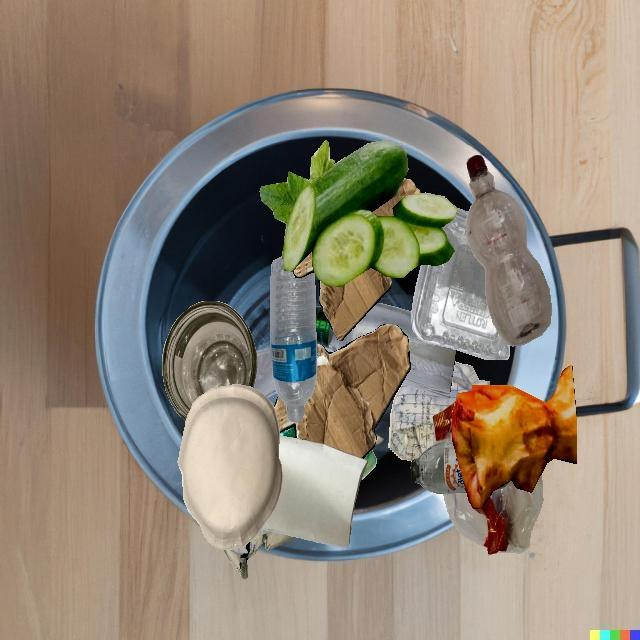biowaste: (260, 139, 457, 286), (452, 365, 577, 508)
cardboard: (274, 324, 411, 459), (296, 198, 402, 340)
glass: (316, 302, 456, 399), (162, 301, 257, 420), (410, 441, 467, 494)
paper: (178, 384, 282, 550), (261, 435, 368, 548), (389, 361, 489, 461), (223, 529, 296, 580)
plastic: (466, 155, 552, 346), (411, 208, 509, 359), (443, 473, 543, 555), (270, 256, 317, 422), (279, 432, 375, 463)
